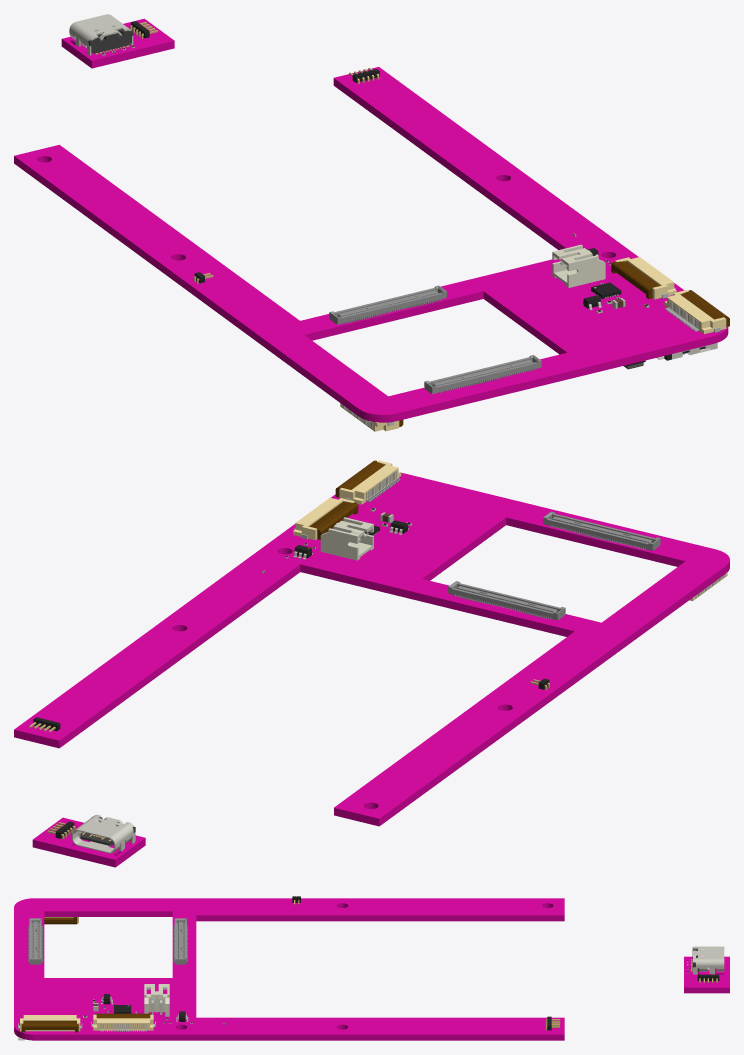
Rendered from Phone.glb.
3 views of the same model, one above another, from view 1: azimuth 30°, elevation 25°; view 2: azimuth 150°, elevation 25°; view 3: azimuth 270°, elevation 25° (orthographic). The views are drawn at different scales.
Parts seen in each view (by area): view 1: =>[0:1:1:18], U1 (×2), =>[0:1:1:19], J1, body (×2), J8, lock; view 2: =>[0:1:1:18], U1 (×2), =>[0:1:1:19], body (×2), J1, J8, lock; view 3: =>[0:1:1:18], U1 (×2), body (×2), lock (×3), =>[0:1:1:19], J1, J8, pins.
Part boxes in pixels (bbox=[...]): =>[0:1:1:18]: bbox=[14, 67, 728, 422]; U1 (×2): bbox=[329, 285, 541, 394]; =>[0:1:1:19]: bbox=[61, 18, 174, 68]; J1: bbox=[69, 14, 133, 55]; body (×2): bbox=[615, 257, 726, 334]; J8: bbox=[552, 244, 605, 287]; lock: bbox=[611, 261, 660, 299]; =>[0:1:1:18]: bbox=[14, 472, 729, 826]; U1 (×2): bbox=[448, 511, 660, 620]; =>[0:1:1:19]: bbox=[32, 817, 145, 867]; body (×2): bbox=[293, 460, 401, 540]; J1: bbox=[72, 814, 135, 853]; J8: bbox=[320, 517, 373, 560]; lock: bbox=[309, 502, 358, 539]; =>[0:1:1:18]: bbox=[14, 898, 564, 1040]; U1 (×2): bbox=[28, 918, 187, 964]; body (×2): bbox=[20, 1014, 153, 1031]; lock (×3): bbox=[21, 917, 152, 1032]; =>[0:1:1:19]: bbox=[684, 956, 729, 993]; J1: bbox=[691, 946, 724, 974]; J8: bbox=[144, 984, 169, 1016]; pins: bbox=[91, 1021, 155, 1031].
Size of the model in its own units: 0.0755 by 0.00854 by 0.1673.
